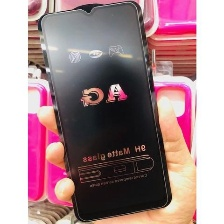phone: (35, 0, 176, 224)
